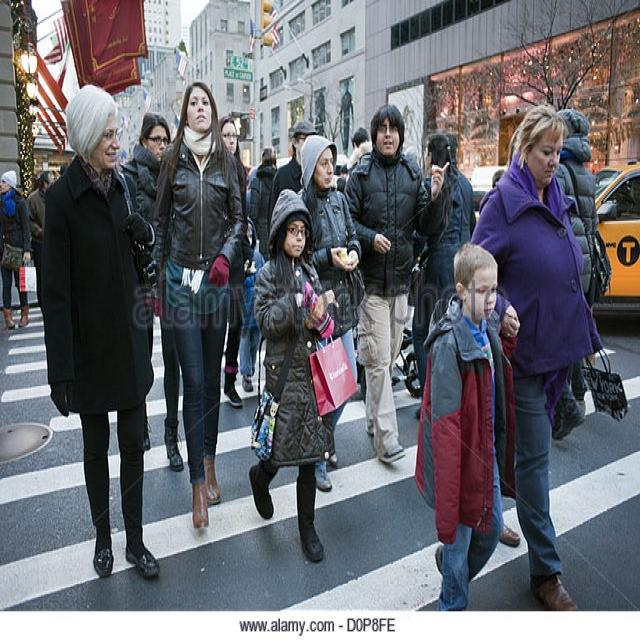body: (254, 73, 508, 409), (468, 103, 604, 610), (36, 80, 165, 587), (148, 77, 250, 534), (410, 238, 522, 639), (246, 184, 360, 565), (339, 99, 453, 466), (297, 134, 364, 494), (119, 110, 173, 453), (556, 108, 613, 416), (413, 132, 464, 395), (218, 114, 250, 410), (566, 231, 614, 416), (265, 116, 320, 237), (0, 165, 34, 333), (237, 214, 267, 393), (25, 170, 56, 322), (444, 130, 477, 246), (248, 145, 280, 258), (345, 125, 373, 176)
